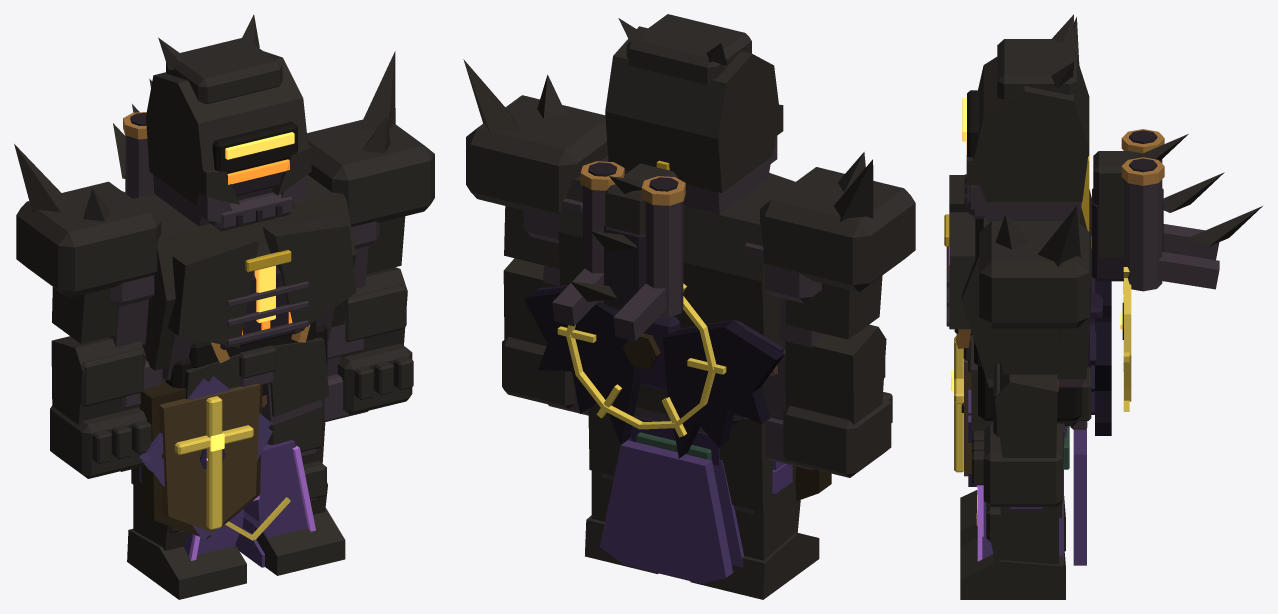
The model's file is actors-humanoids.glb.
The picture shows the model from 3 angles, left to right: view 1: azimuth 30°, elevation 25°; view 2: azimuth 150°, elevation 25°; view 3: azimuth 270°, elevation 25°; orthographic projection. The views are drawn at different scales.
Parts seen in each view (by area): view 1: obsidian_brute_torso_shell, obsidian_brute_head_shell, obsidian_brute_armL_sh_shell, obsidian_brute_armR_sh_shell, throne_sentinel_shield_shell, obsidian_brute_armL_el_shell, obsidian_brute_hips_shell, obsidian_brute_armL_hand_shell, obsidian_brute_legL_foot_shell, mage_robe_shell, obsidian_brute_armR_hand_shell, obsidian_brute_armR_el_shell (+27 smaller); view 2: obsidian_brute_head_shell, obsidian_brute_armL_sh_shell, summoner_back_dark, mage_robe_shell, obsidian_brute_armR_sh_shell, obsidian_brute_torso_shell, forge_brute_back_shell, obsidian_brute_armL_el_shell, obsidian_brute_armL_hand_shell, obsidian_brute_legL_hip_shell, obsidian_brute_back_shell, warden_adept_sigil_trim (+20 smaller); view 3: obsidian_brute_head_shell, obsidian_brute_armR_sh_shell, obsidian_brute_torso_shell, forge_brute_back_shell, obsidian_brute_armR_el_shell, obsidian_brute_back_shell, obsidian_brute_armR_hand_shell, obsidian_brute_legR_foot_shell, obsidian_brute_legR_knee_shell, mage_robe_shell, summoner_back_dark, forge_brute_head_shell (+13 smaller).
Part boxes in pixels (x1=…): obsidian_brute_torso_shell: x1=133, y1=174, x2=356, y2=370; obsidian_brute_head_shell: x1=146, y1=14, x2=311, y2=205; obsidian_brute_armL_sh_shell: x1=14, y1=144, x2=161, y2=343; obsidian_brute_armR_sh_shell: x1=307, y1=51, x2=434, y2=274; throne_sentinel_shield_shell: x1=159, y1=383, x2=260, y2=532; obsidian_brute_armL_el_shell: x1=51, y1=336, x2=145, y2=425; obsidian_brute_hips_shell: x1=184, y1=337, x2=329, y2=416; obsidian_brute_armL_hand_shell: x1=50, y1=406, x2=151, y2=478; obsidian_brute_legL_foot_shell: x1=127, y1=529, x2=246, y2=599; mage_robe_shell: x1=183, y1=440, x2=307, y2=556; obsidian_brute_armR_hand_shell: x1=337, y1=343, x2=413, y2=414; obsidian_brute_armR_el_shell: x1=340, y1=267, x2=407, y2=360; obsidian_brute_head_shell: x1=605, y1=14, x2=783, y2=192; obsidian_brute_armL_sh_shell: x1=760, y1=152, x2=915, y2=339; summoner_back_dark: x1=523, y1=287, x2=784, y2=458; mage_robe_shell: x1=600, y1=438, x2=743, y2=583; obsidian_brute_armR_sh_shell: x1=463, y1=59, x2=607, y2=269; obsidian_brute_torso_shell: x1=558, y1=156, x2=795, y2=351; forge_brute_back_shell: x1=552, y1=185, x2=683, y2=341; obsidian_brute_armL_el_shell: x1=785, y1=324, x2=886, y2=424; obsidian_brute_armL_hand_shell: x1=783, y1=392, x2=892, y2=477; obsidian_brute_legL_hip_shell: x1=719, y1=417, x2=796, y2=512; obsidian_brute_back_shell: x1=570, y1=163, x2=677, y2=301; warden_adept_sigil_trim: x1=557, y1=283, x2=726, y2=437; obsidian_brute_head_shell: x1=966, y1=14, x2=1089, y2=201; obsidian_brute_armR_sh_shell: x1=979, y1=206, x2=1089, y2=374; obsidian_brute_torso_shell: x1=949, y1=175, x2=1091, y2=379; forge_brute_back_shell: x1=1124, y1=159, x2=1219, y2=291; obsidian_brute_armR_el_shell: x1=993, y1=361, x2=1057, y2=457; obsidian_brute_back_shell: x1=1093, y1=134, x2=1262, y2=257; obsidian_brute_armR_hand_shell: x1=972, y1=424, x2=1063, y2=506; obsidian_brute_legR_foot_shell: x1=960, y1=538, x2=1065, y2=599; obsidian_brute_legR_knee_shell: x1=986, y1=504, x2=1058, y2=564; mage_robe_shell: x1=982, y1=428, x2=1086, y2=565; summoner_back_dark: x1=1095, y1=280, x2=1111, y2=435; forge_brute_head_shell: x1=968, y1=185, x2=1081, y2=222.
Bounding box in the file's own units: 2.53 × 3.25 × 1.8.
